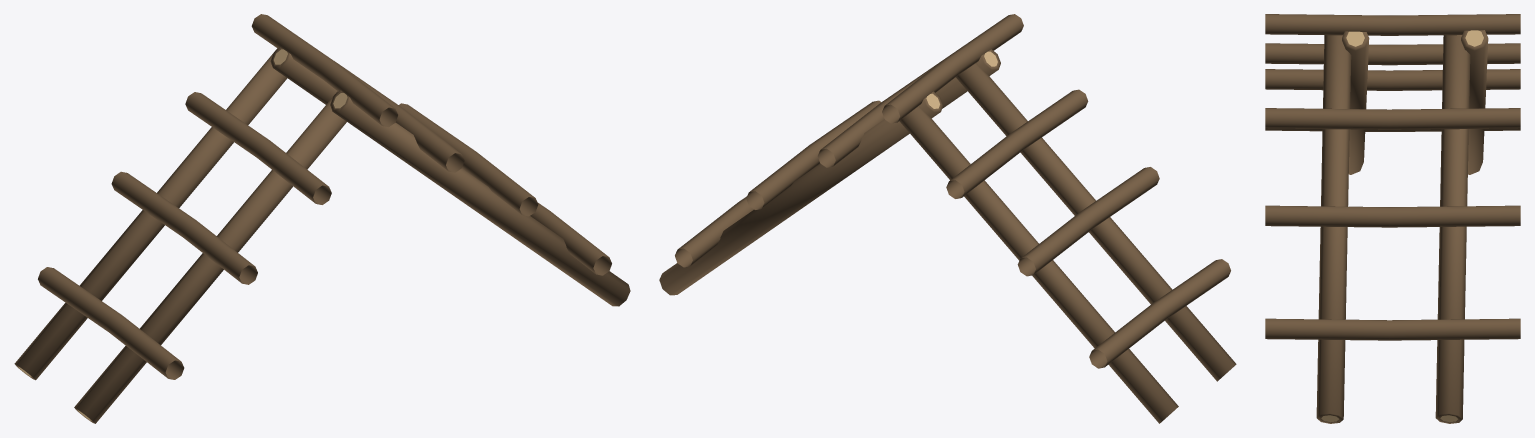
The model's file is rpgpp_ag_roof_support_01_6x3x3.fbx.
The picture shows the model from 3 angles, left to right: view 1: azimuth 30°, elevation 25°; view 2: azimuth 150°, elevation 25°; view 3: azimuth 270°, elevation 25°; orthographic projection. The views are drawn at different scales.
Parts seen in each view (by area): view 1: rpgpp_ag_roof_support_01_6x3x3; view 2: rpgpp_ag_roof_support_01_6x3x3; view 3: rpgpp_ag_roof_support_01_6x3x3.
Boxes of the visible parts, x1,y1,x2,y2 form: rpgpp_ag_roof_support_01_6x3x3: (14, 14, 630, 423); rpgpp_ag_roof_support_01_6x3x3: (659, 14, 1236, 423); rpgpp_ag_roof_support_01_6x3x3: (1265, 14, 1520, 423).
Size of the model in its own units: 7.34 by 3.69 by 3.
